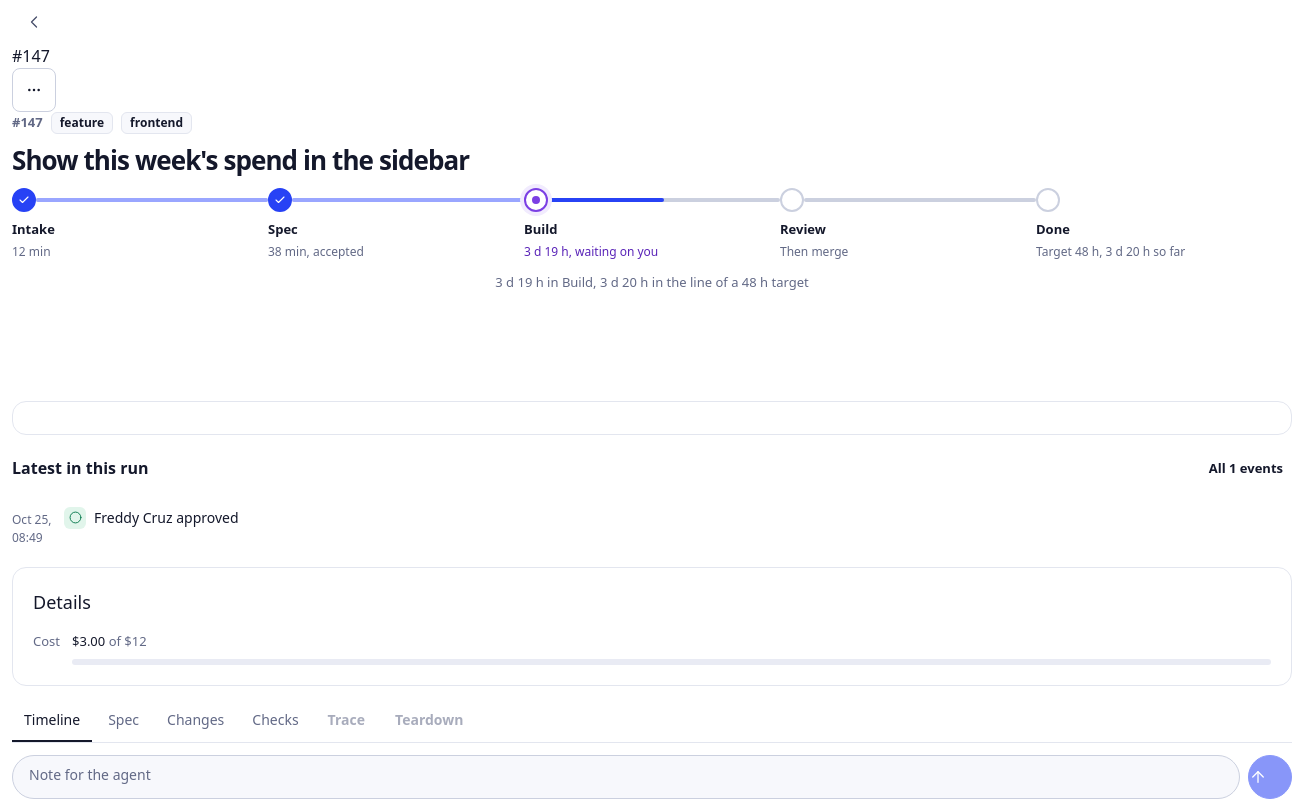
Test case: the item decisions at each width › shows Latest in this run with All N events, which opens the full timeline
The width and height of the screenshot is (1304, 800).
Click the button "All 1 events". click: {"x": 1246, "y": 469}
box: [1200,447,1292,491]
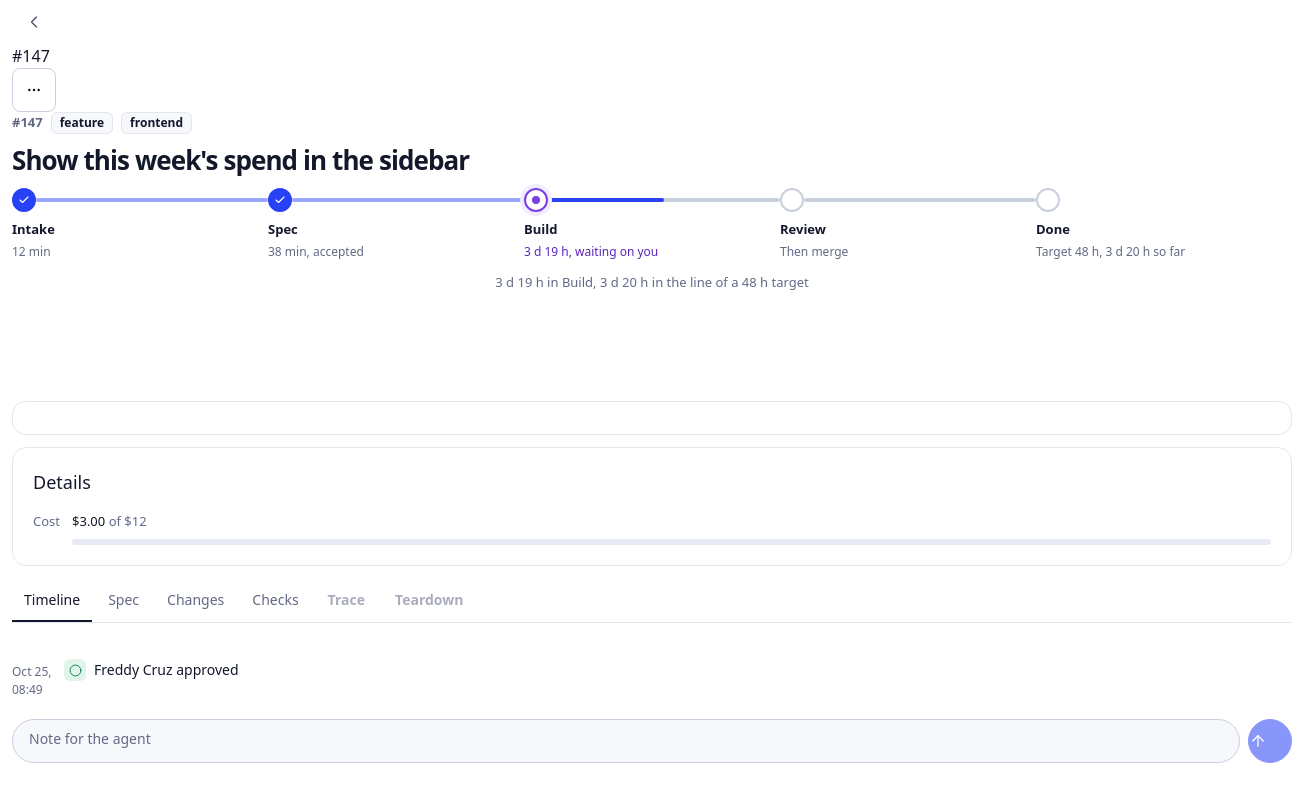
Expected: the element named "Timeline" is shown, [12,659,239,698]
Result: the heading "Latest in this run" is gone
